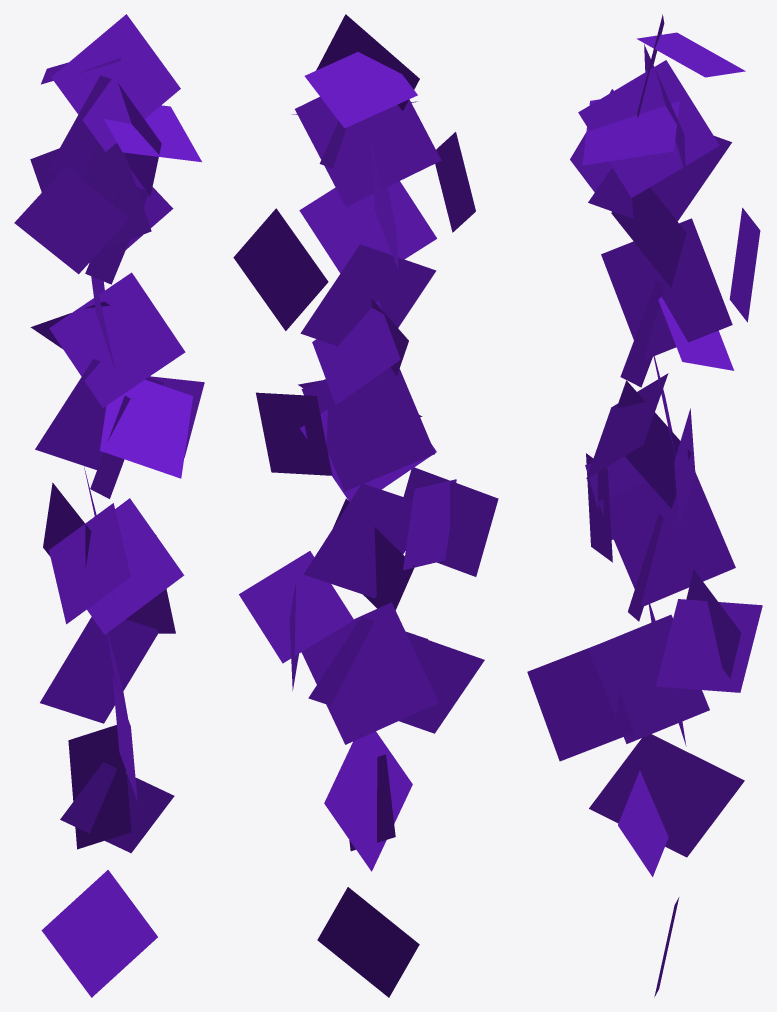
File: Hanging Ivy 1.obj
3 renders of one model, left to right at view 1: azimuth 30°, elevation 25°; view 2: azimuth 150°, elevation 25°; view 3: azimuth 270°, elevation 25°, orthographic. The views are drawn at different scales.
Visible parts, largest first — view 1: Hanging_Ivy_1; view 2: Hanging_Ivy_1; view 3: Hanging_Ivy_1.
Boxes of the visible parts, <box> form: Hanging_Ivy_1: <box>14,14,204,997</box>; Hanging_Ivy_1: <box>233,14,498,997</box>; Hanging_Ivy_1: <box>527,14,762,997</box>.
Bounding box in the file's own units: 0.947 × 4.29 × 0.9134.
